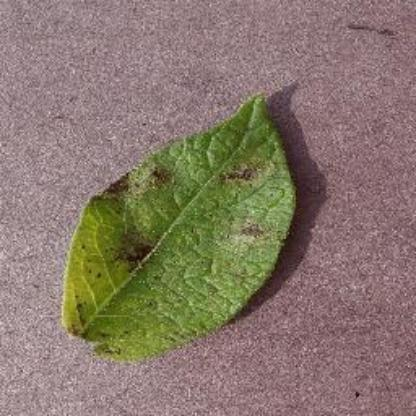Late-Blight: (56, 93, 362, 381)
